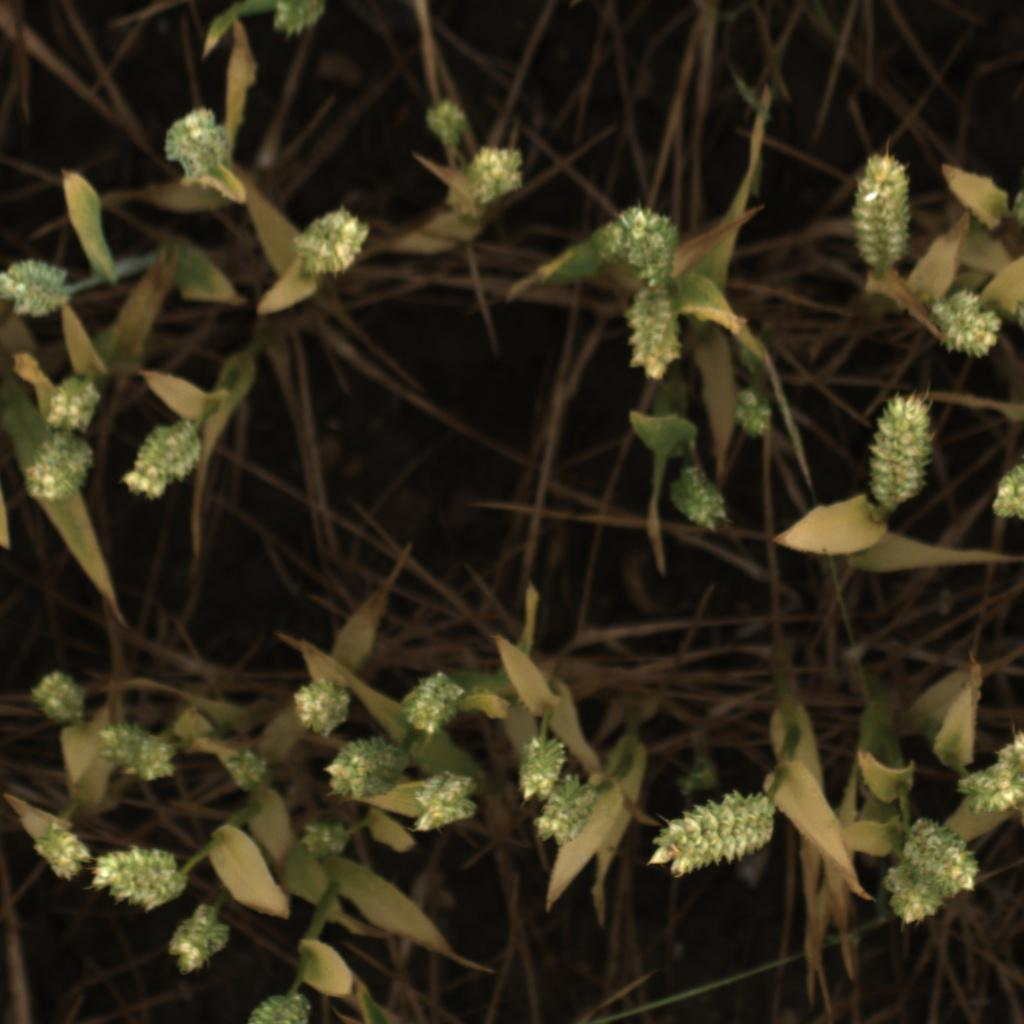0-0: (643, 783, 780, 878), (859, 380, 942, 512), (841, 147, 921, 274), (120, 409, 211, 502), (624, 279, 693, 390), (94, 836, 189, 915), (155, 102, 242, 188), (318, 727, 414, 803), (917, 283, 1006, 363), (898, 809, 981, 894), (289, 199, 371, 285), (12, 427, 100, 506), (94, 712, 182, 788), (951, 728, 1024, 817), (600, 206, 685, 281), (660, 456, 737, 535), (161, 902, 239, 977), (530, 767, 603, 847), (395, 666, 479, 734), (404, 760, 480, 835), (0, 251, 73, 326), (283, 669, 361, 737), (506, 731, 568, 806), (880, 864, 949, 930), (30, 815, 94, 886), (27, 661, 93, 728), (467, 139, 527, 207), (416, 90, 476, 152), (45, 375, 105, 434), (216, 740, 278, 794), (266, 0, 335, 46), (727, 380, 777, 441), (296, 813, 353, 865), (234, 989, 318, 1024), (992, 445, 1024, 531)
